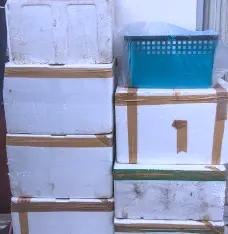ROAD_OBSTACLE: (114, 87, 228, 161), (5, 68, 123, 133), (7, 2, 121, 68), (5, 135, 123, 193), (114, 159, 228, 211)
